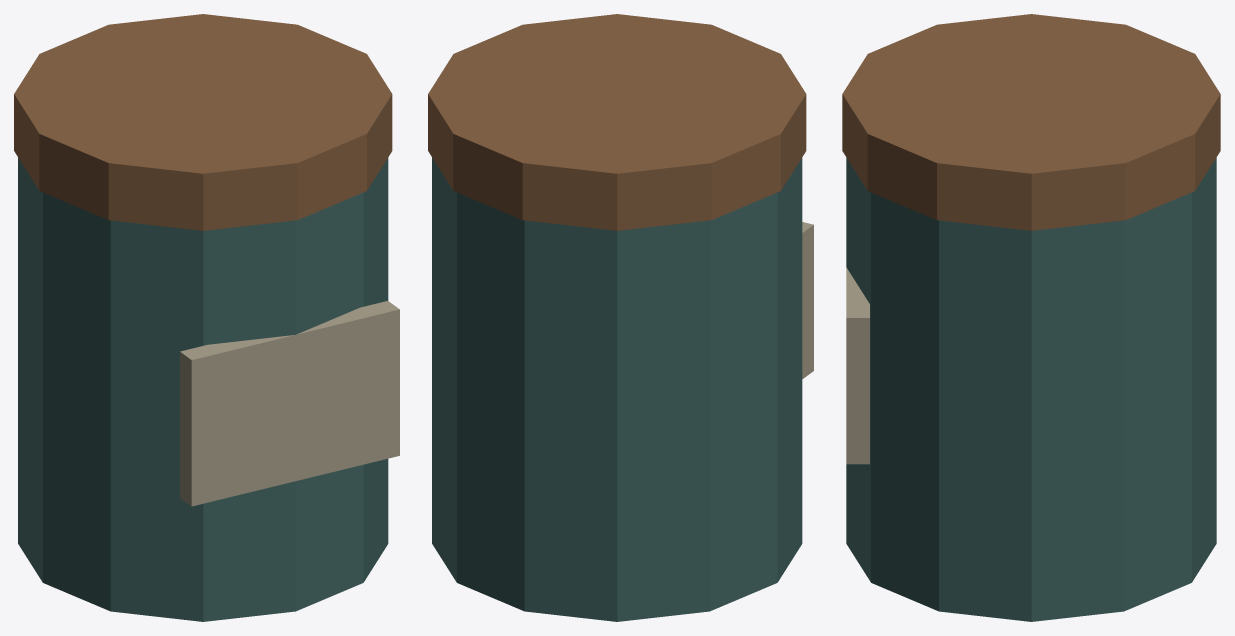
File: L-17_specimen_jar.glb
3 views of the same model, side by side, from view 1: azimuth 30°, elevation 25°; view 2: azimuth 150°, elevation 25°; view 3: azimuth 270°, elevation 25° (orthographic).
Visible parts, largest first — view 1: L-17_specimen_jar; view 2: L-17_specimen_jar; view 3: L-17_specimen_jar.
Part boxes in pixels (x1=…): L-17_specimen_jar: x1=14, y1=14, x2=399, y2=621; L-17_specimen_jar: x1=428, y1=14, x2=813, y2=621; L-17_specimen_jar: x1=842, y1=14, x2=1220, y2=621.
Size of the model in its own units: 0.096 by 0.126 by 0.096.
